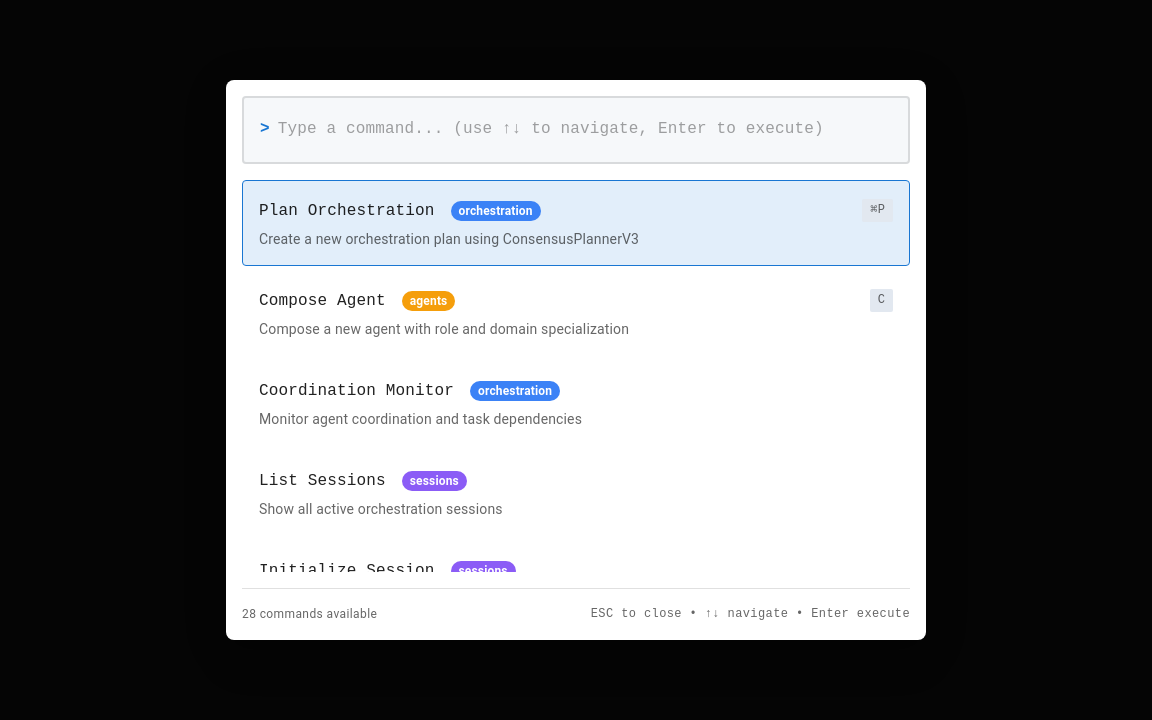
CLI Workflow Integration › Command Palette Functionality › should filter commands based on search query
Step 1. Type "plan" into the field with placeholder "Type a command... (use ↑↓ to navigate, Enter to execute)" → (585, 130), box [278,114,892,146]
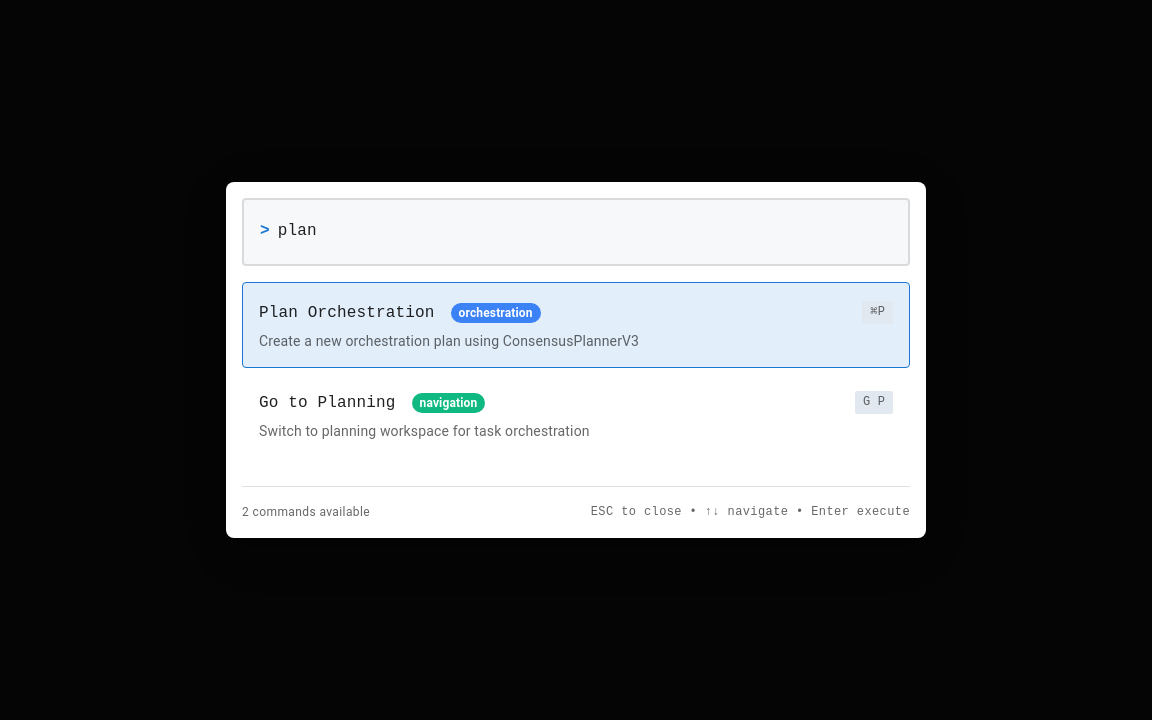
Expected: the heading "Plan Orchestration" is shown, [259,298,434,326]
Expected: the heading "Go to Planning" is shown, [259,388,396,416]
Expected: the button "Compose Agent" is gone
